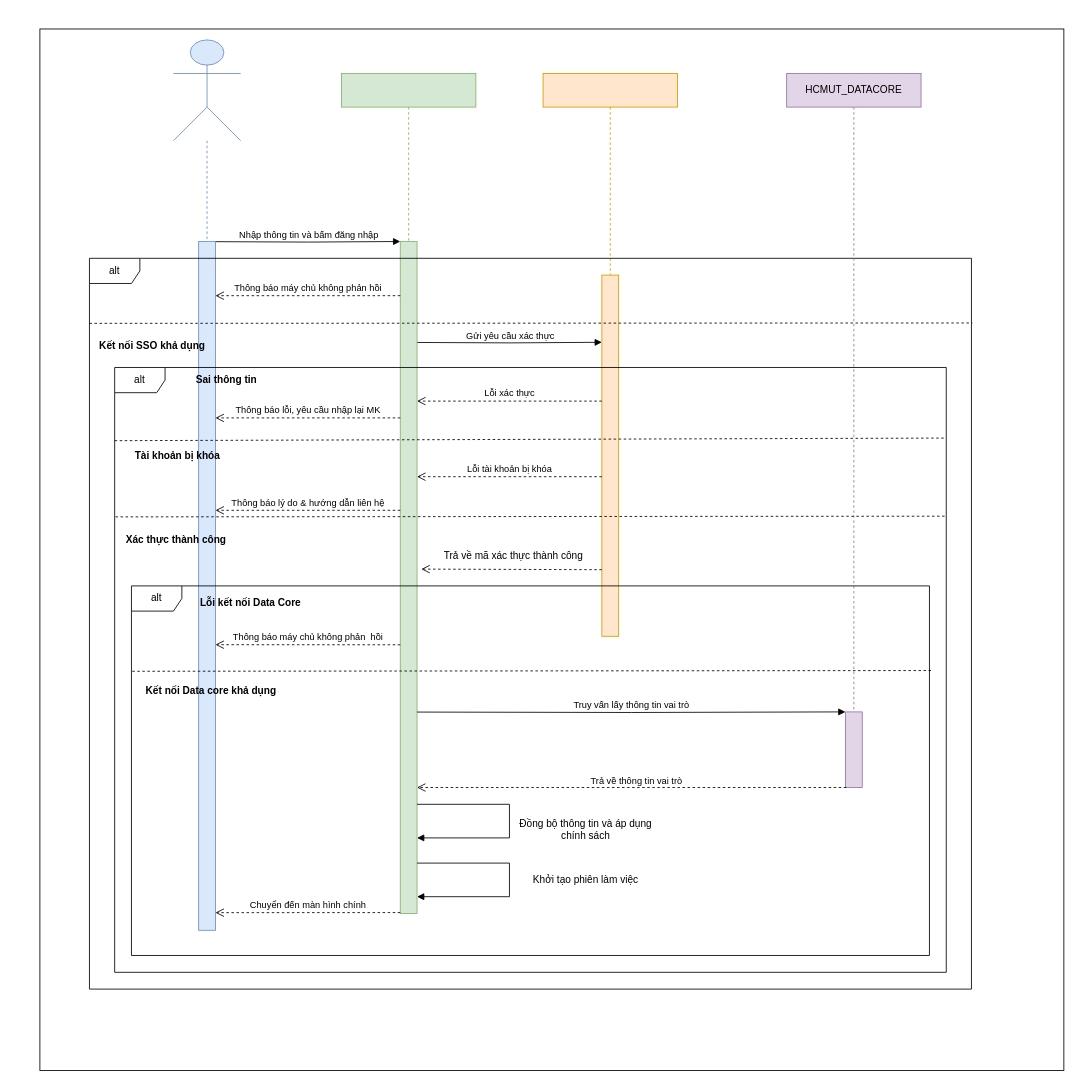
Image size: 1079x1085. Some labels were removed from this diagram. The box of each missing label's shape, as (x1, y1, x2, y2) in pixels:
HCMUT_SSO: (542, 73, 677, 275)
Hệ thống quản lý trung tâm: (341, 73, 476, 242)
User: (173, 39, 241, 242)
